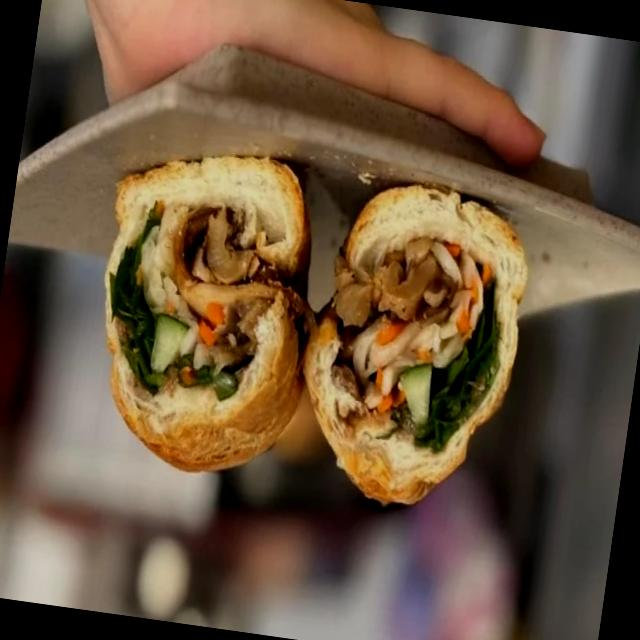banh mi: (105, 157, 527, 505)
